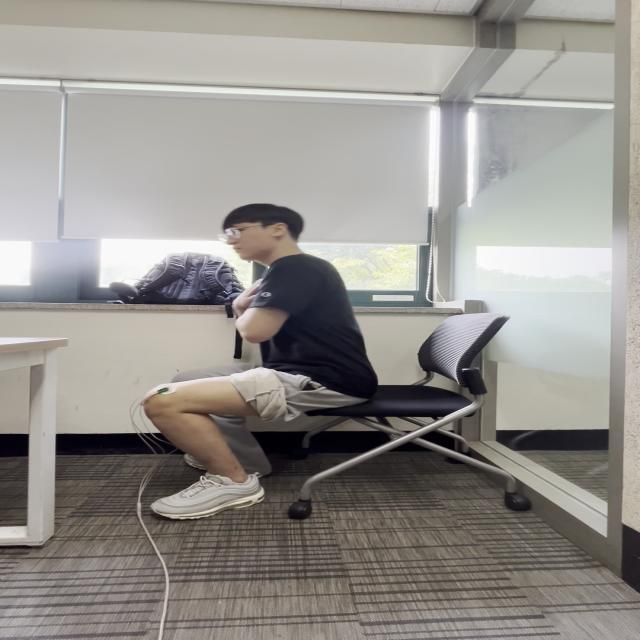squat: (202, 262, 390, 420), (132, 372, 292, 522), (128, 359, 382, 432)
